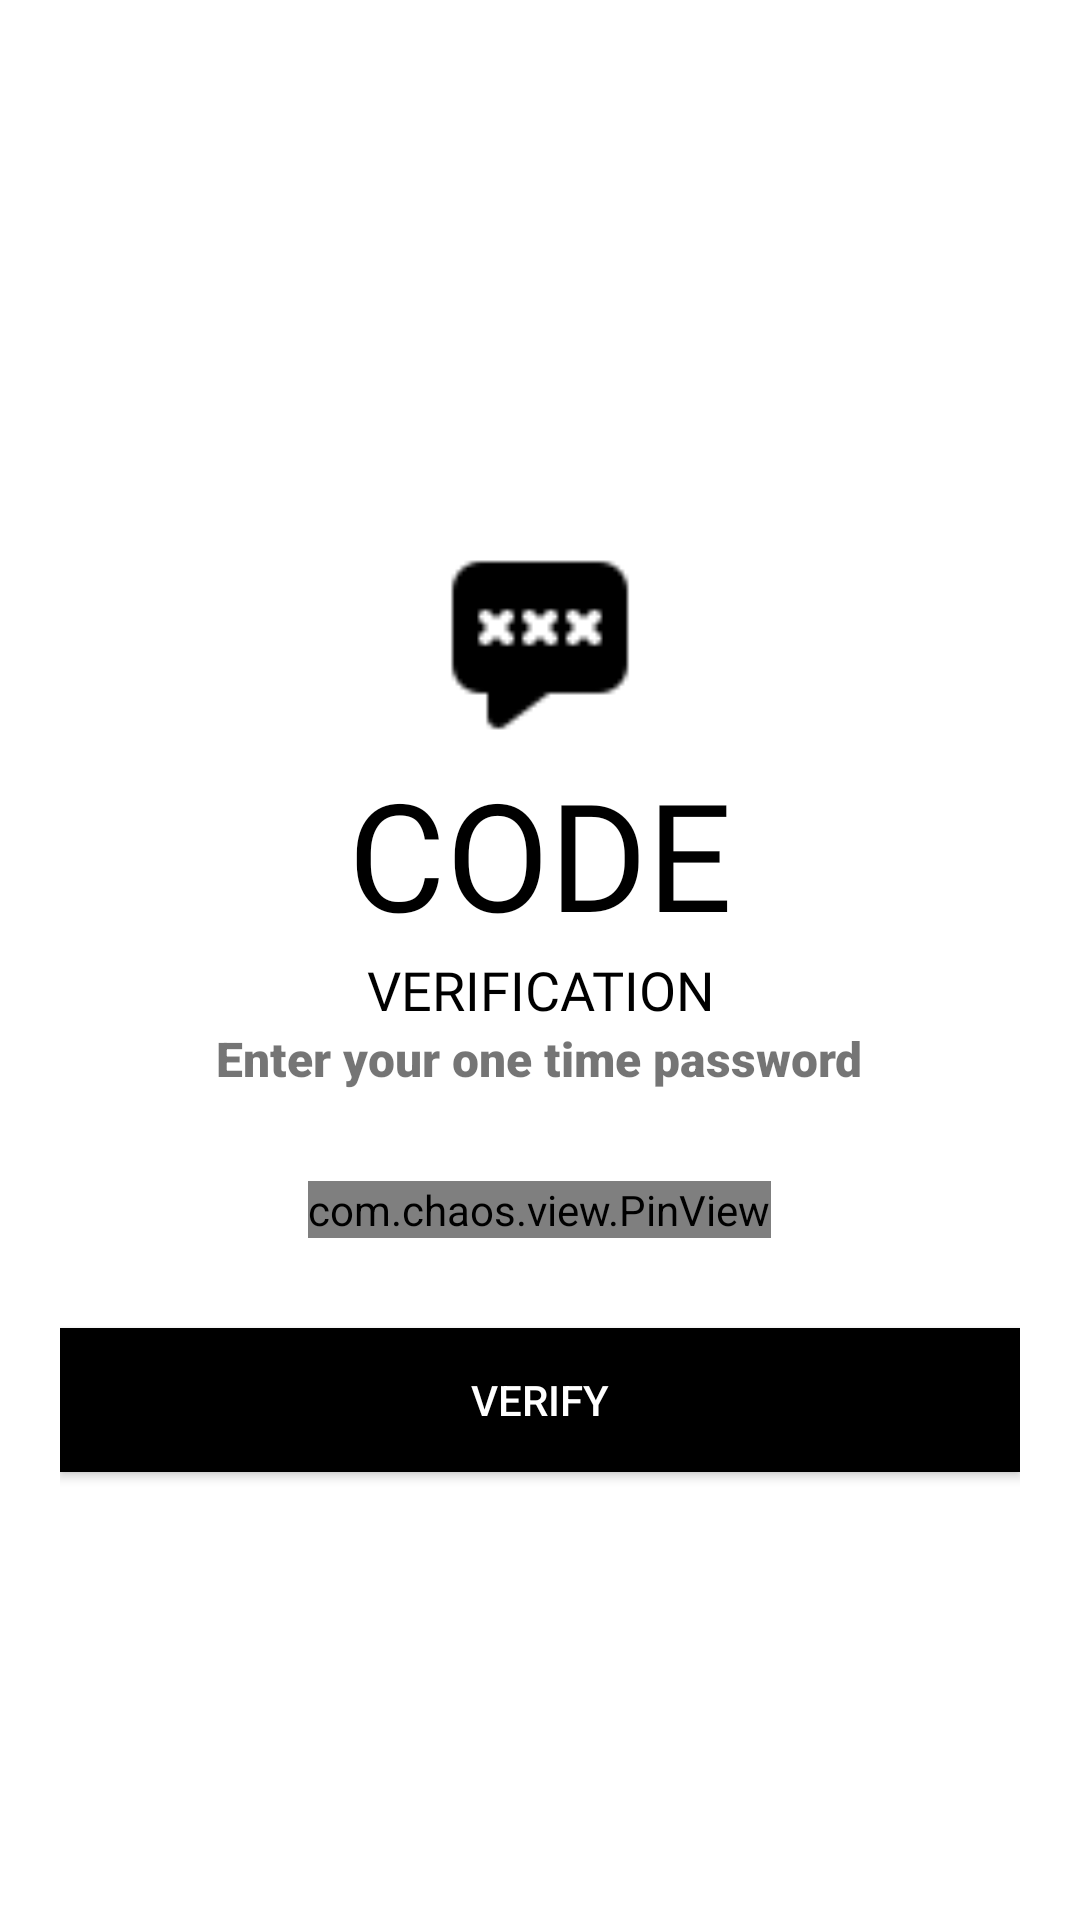

Screen size 1080w x 1920h. Icon name, then its center in pixels as [x,y]:
authentication: [540,645]
